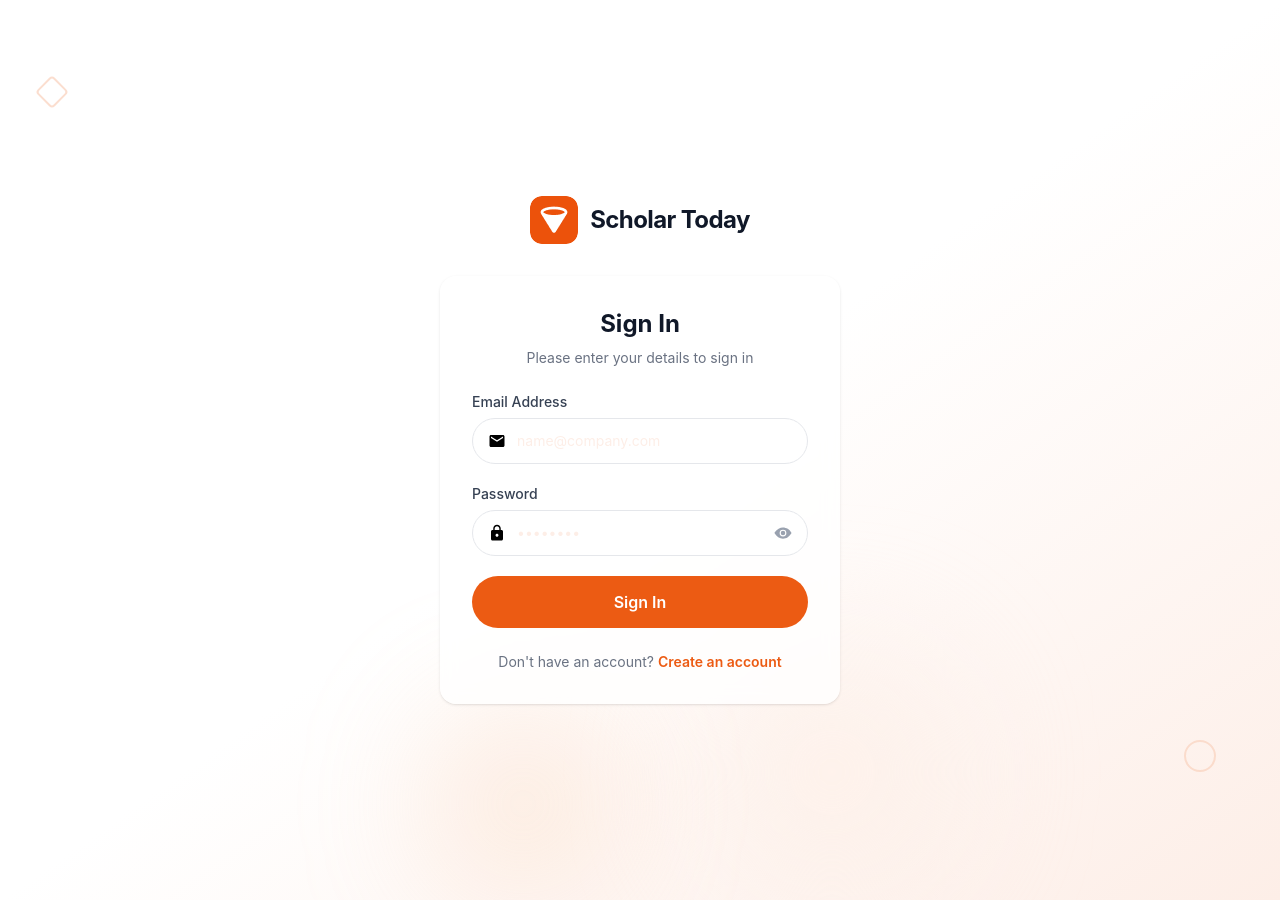
Test: LoginPage › Validation › should show error when email format is invalid
Type "invalid-email" into the field labelled "Email Address" at coordinates (640, 441), box [472, 418, 808, 464]
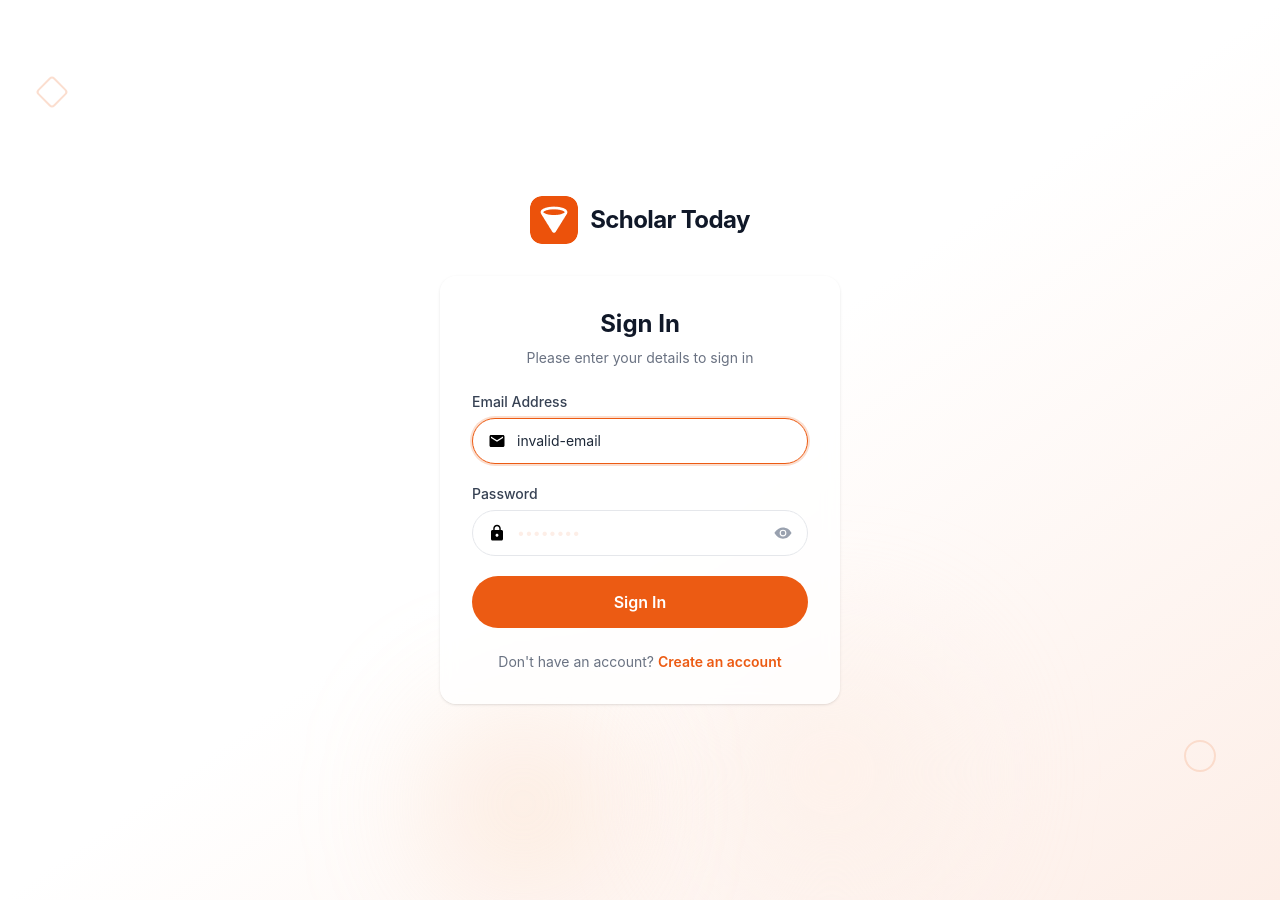
Type "password123" into the password field labelled "Password" at coordinates (640, 533), box [472, 510, 808, 556]
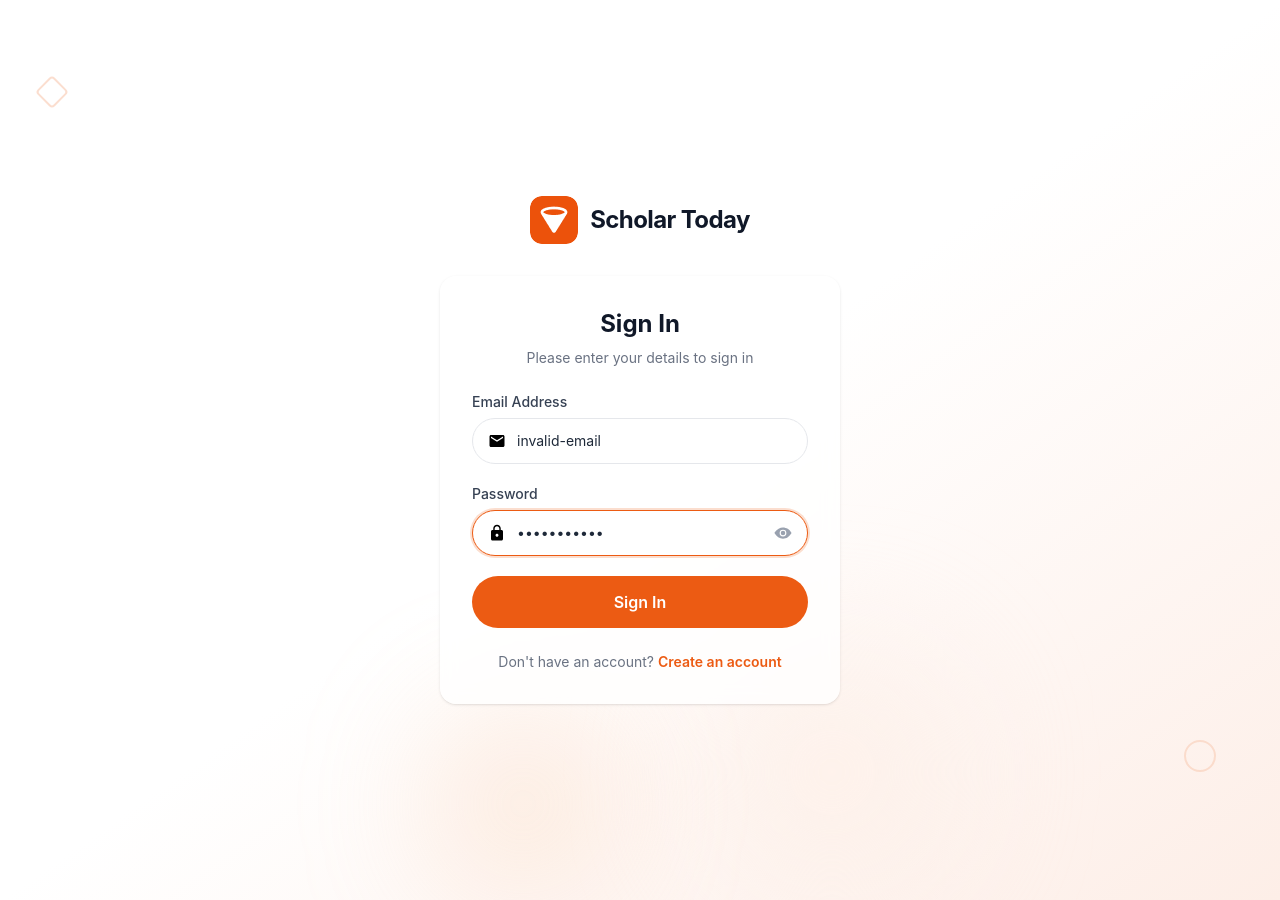
Click the button "Sign In" at coordinates (640, 602), box [472, 576, 808, 628]
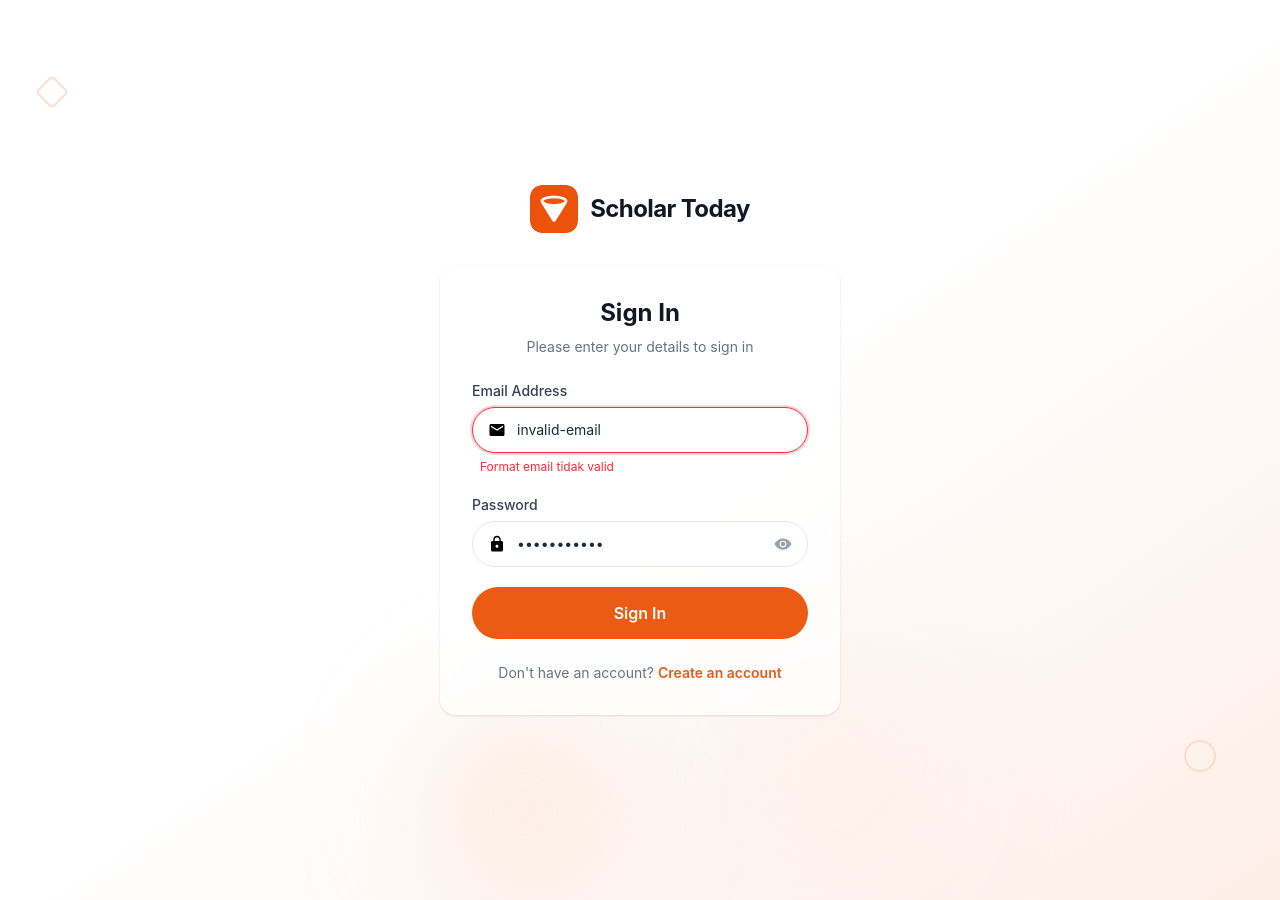
Result: the text "Format email tidak valid" is shown at [480, 459, 614, 474]
